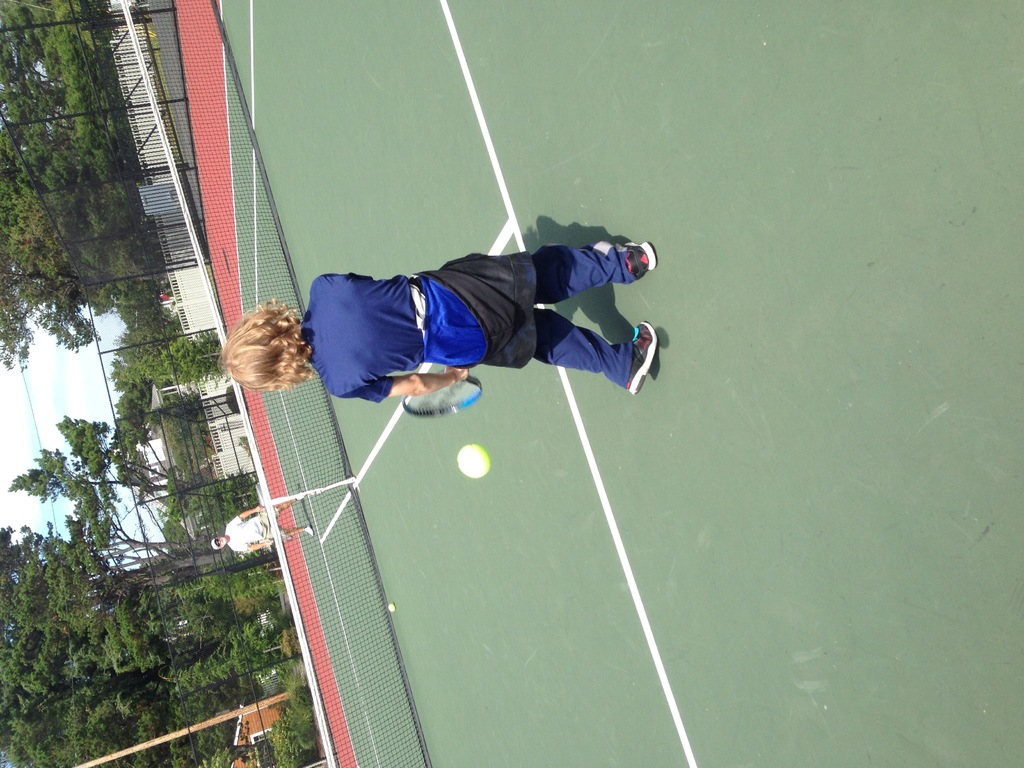Person: (217, 237, 660, 402)
